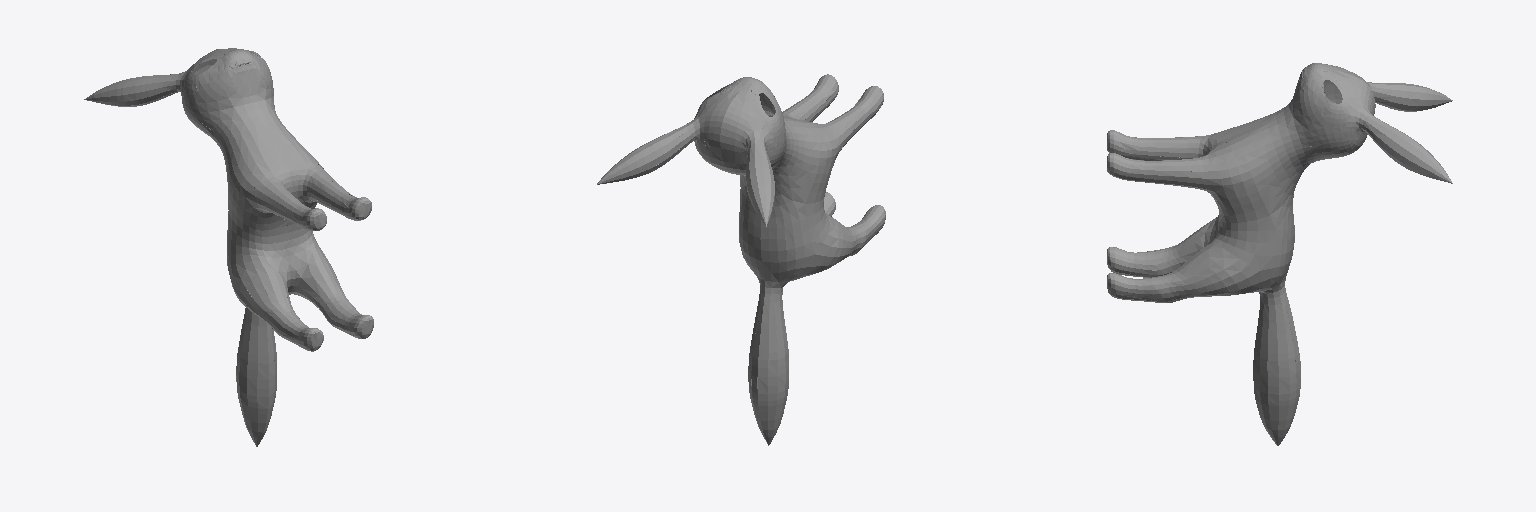
Rendered from Umb.obj.
3 renders of one model, left to right at view 1: azimuth 30°, elevation 25°; view 2: azimuth 150°, elevation 25°; view 3: azimuth 270°, elevation 25°, orthographic.
Bounding box in the file's own units: 0.3797 × 0.813 × 0.6692.